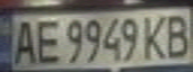4: (103, 15, 124, 63)
9: (81, 15, 106, 63), (60, 16, 84, 64), (118, 14, 142, 62)
A: (9, 16, 39, 65)
B: (160, 10, 193, 58)
E: (33, 16, 63, 65)
K: (139, 11, 172, 61)
